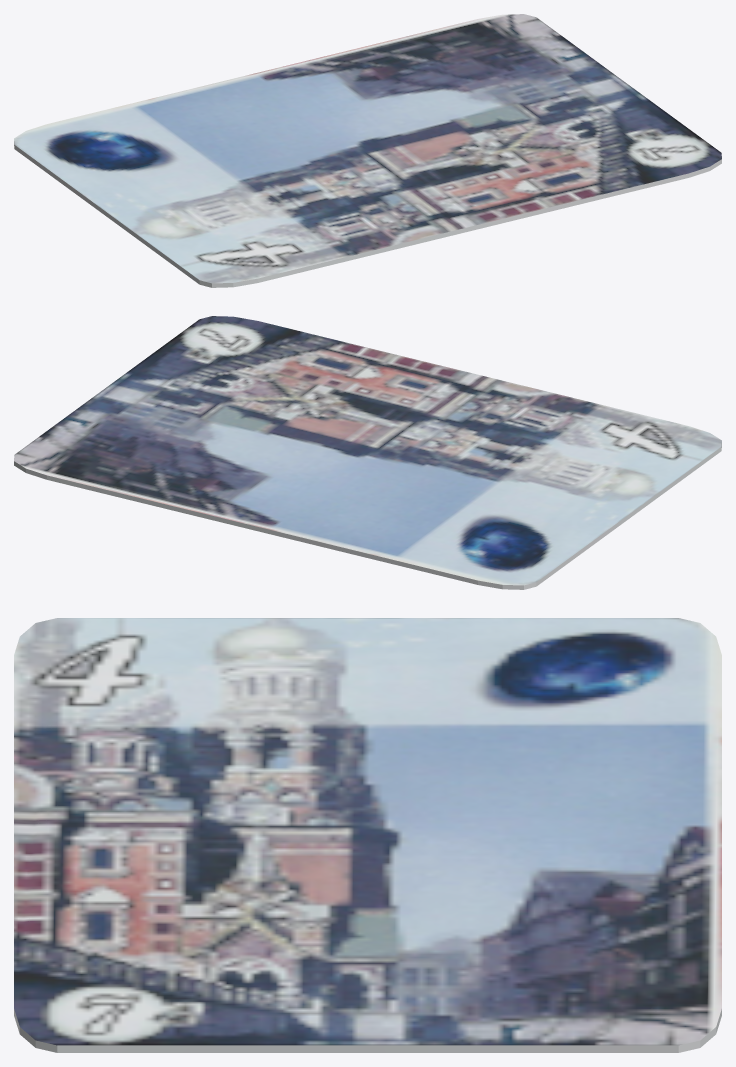
3 views of the same model, one above another, from view 1: azimuth 30°, elevation 25°; view 2: azimuth 150°, elevation 25°; view 3: azimuth 270°, elevation 25° (orthographic). The views are drawn at different scales.
Visible parts, largest first — view 1: Card1; view 2: Card1; view 3: Card1.
Boxes of the visible parts, <box> form: Card1: <box>14,14,721,287</box>; Card1: <box>14,316,721,589</box>; Card1: <box>14,618,721,1052</box>.
Size of the model in its own units: 700 by 5.74 by 490.
